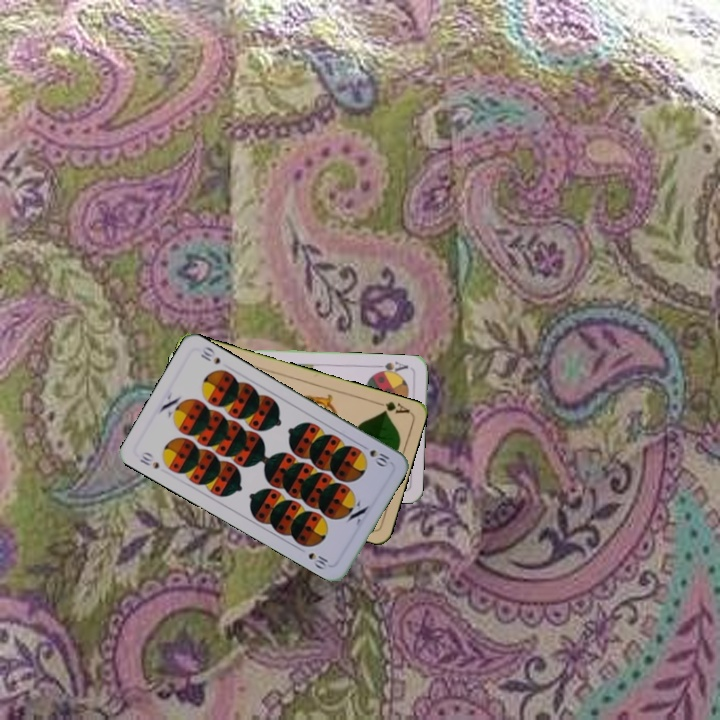GA: (371, 397, 412, 416)
S10: (365, 445, 394, 469), (136, 448, 162, 471)
SA: (371, 357, 410, 377)
